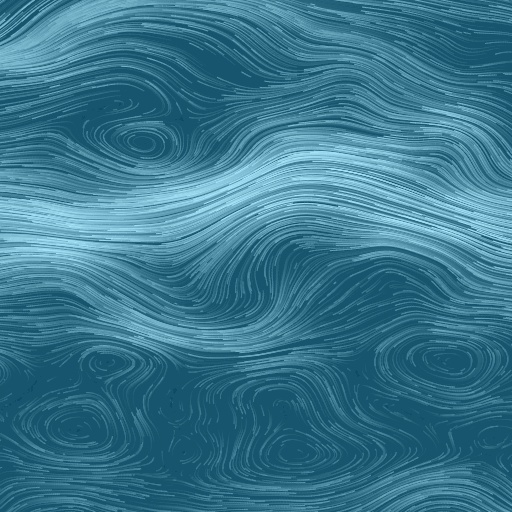eddy: (224, 374, 372, 487), (10, 389, 134, 468), (380, 326, 499, 396), (100, 118, 183, 168), (77, 345, 139, 383), (473, 423, 511, 454)
